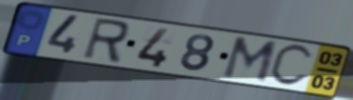4: (45, 12, 81, 59), (134, 26, 171, 69)
8: (179, 33, 217, 73)
C: (266, 43, 315, 88)
M: (219, 35, 281, 86)
R: (79, 16, 132, 66)
